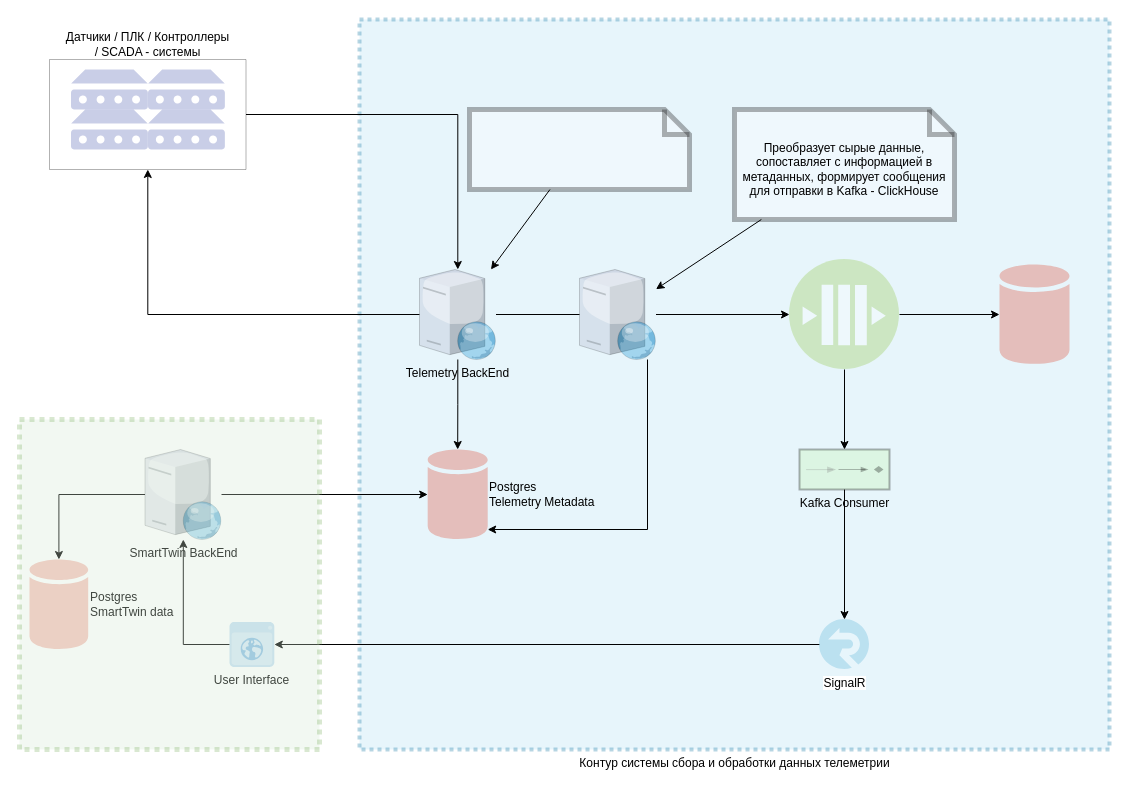
This 1129x787 diagram has some shape labels left out. Here are the shapes that lost their labels. From the top down, the centre of each, then its label:
the point at 579,149: принимает или самостоятельно запрашивает показания с ПЛК или датчиков
the point at 617,314: Parcing & computing
the point at 844,314: Kafka EventBus
the point at 1034,314: ClickHouse Store Telemetry data
the point at 169,584: Контур SmartTwin
